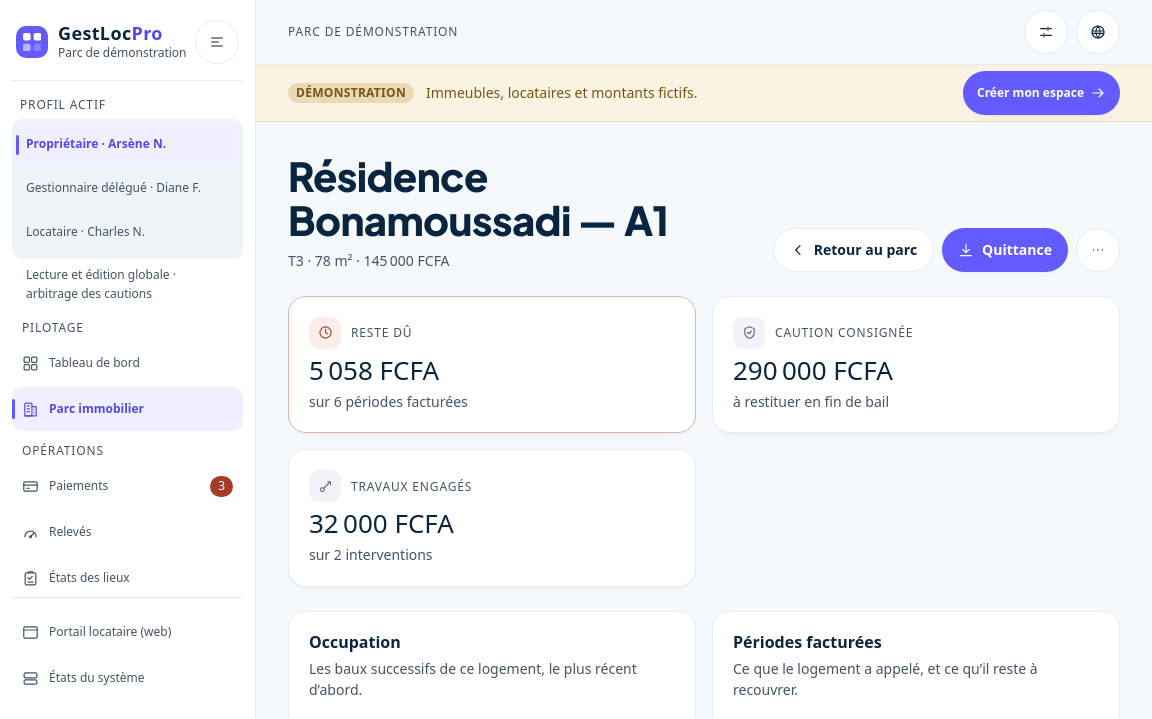
Test: le bail et ses sûretés › DISTINGUE LA CAUTION EN ARGENT DU GARANT EN PERSONNE
The width and height of the screenshot is (1152, 719).
Expected: the heading "Résidence Bonamoussadi — A1" is shown, [288,150,668,245]
Step 1. Click the button named "Autres actions" → [1098, 250], box [1076,228,1120,272]
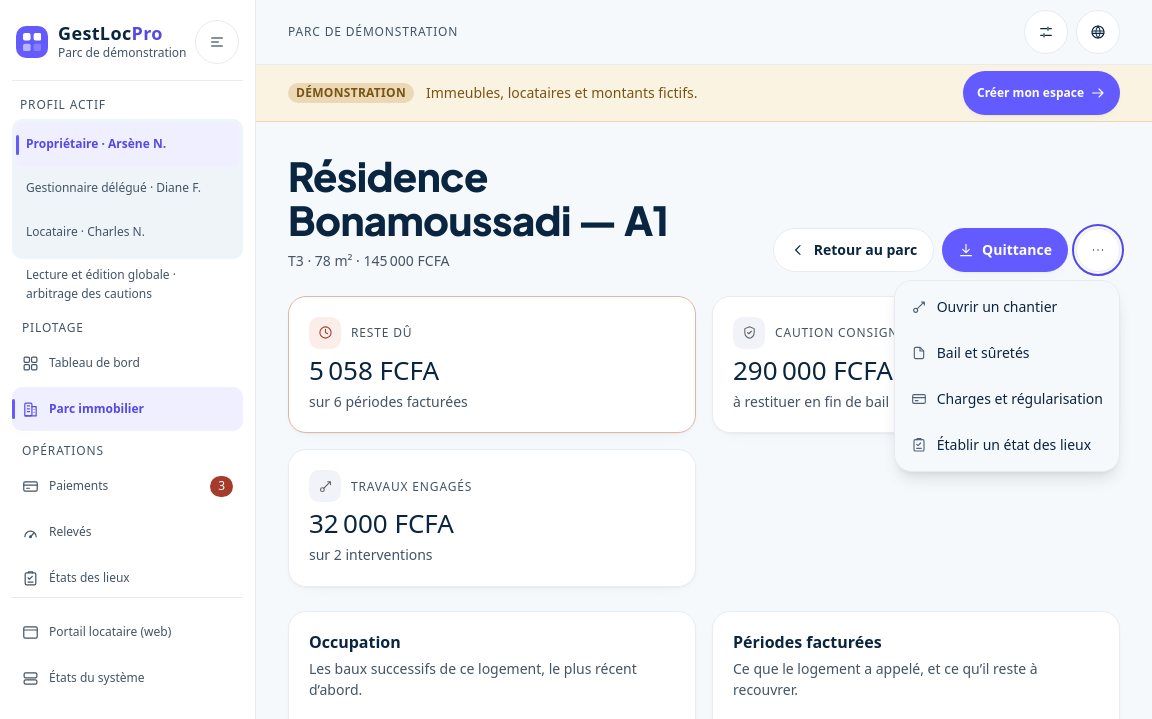
Step 2. Click the menu item "Bail et sûretés" → [1007, 353], box [899,331,1115,375]
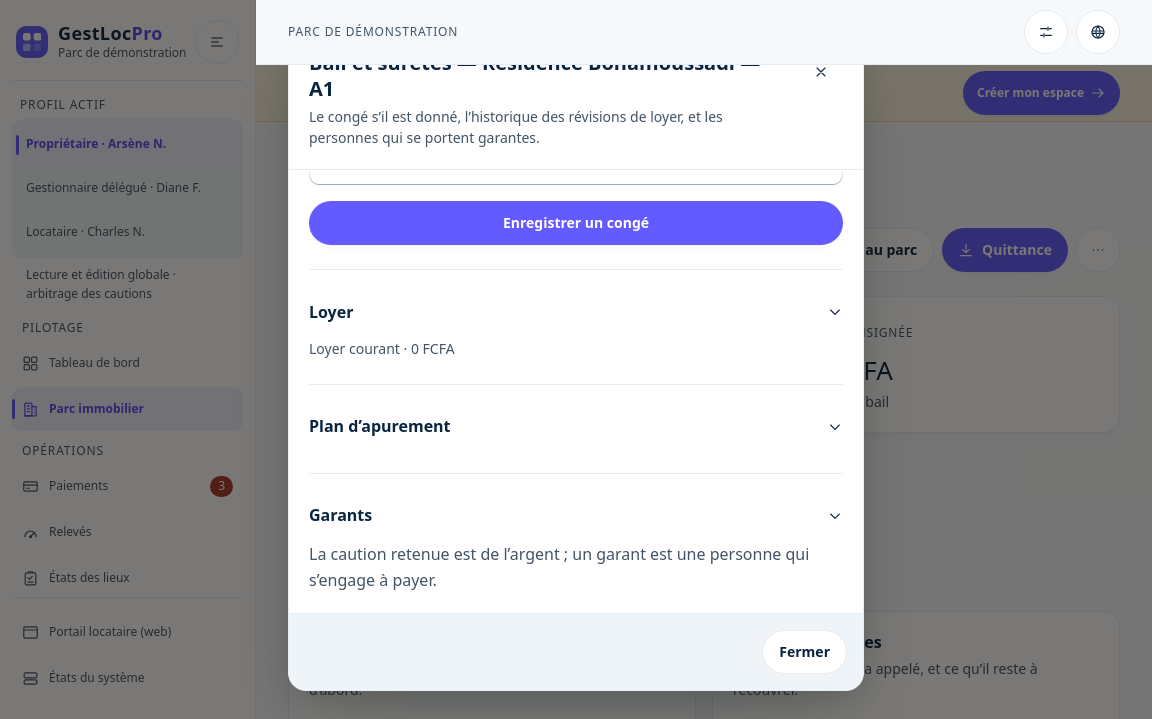
Result: the text "caution retenue est de l’argent ; un garant est une personne" is shown at [309,543,809,591]
